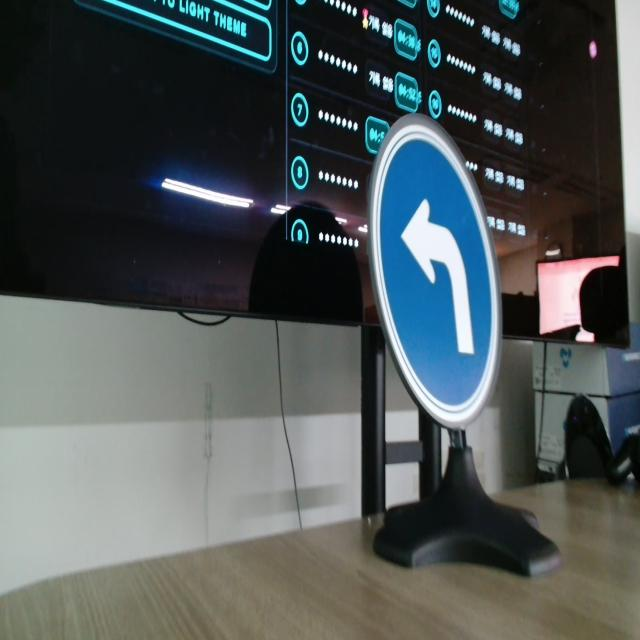left_direction: (361, 109, 514, 434)
